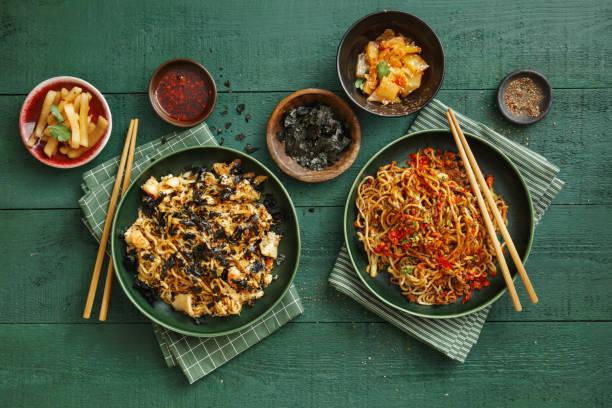Braised Crucian Carp: (344, 129, 533, 317), (111, 146, 296, 335), (336, 9, 444, 118), (265, 88, 362, 183), (17, 75, 110, 168)
